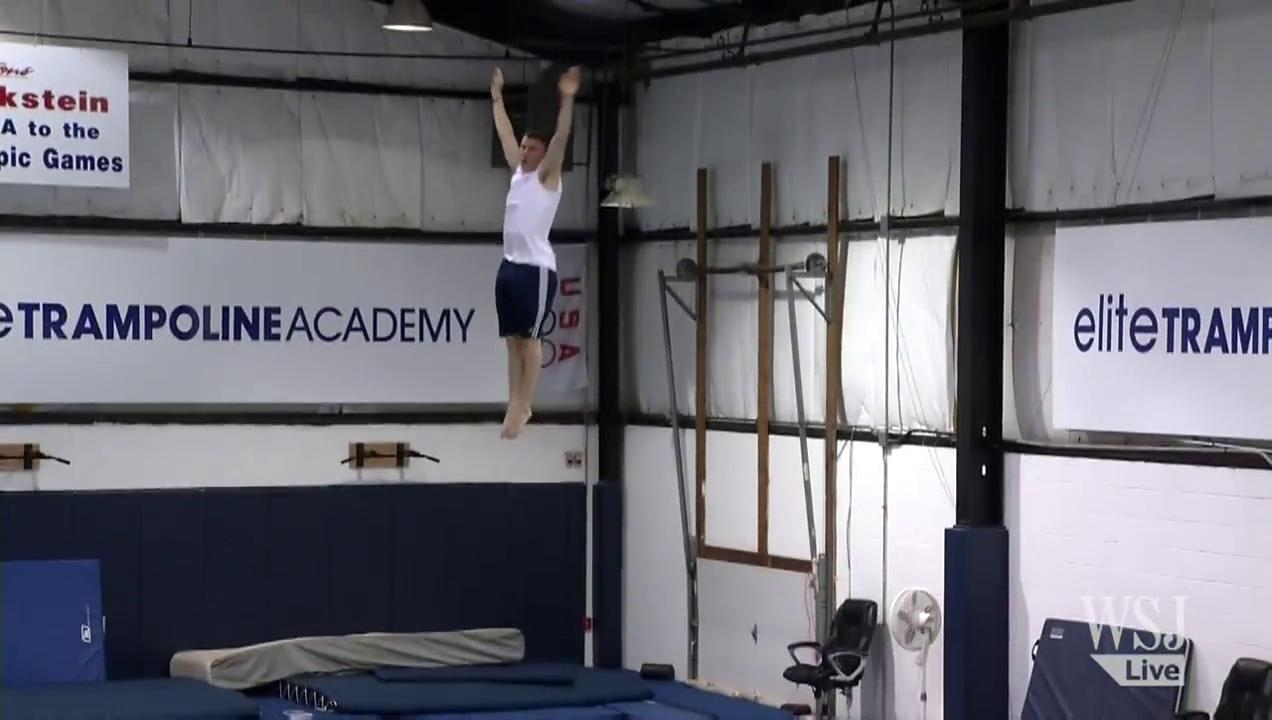victim: (476, 65, 592, 452)
